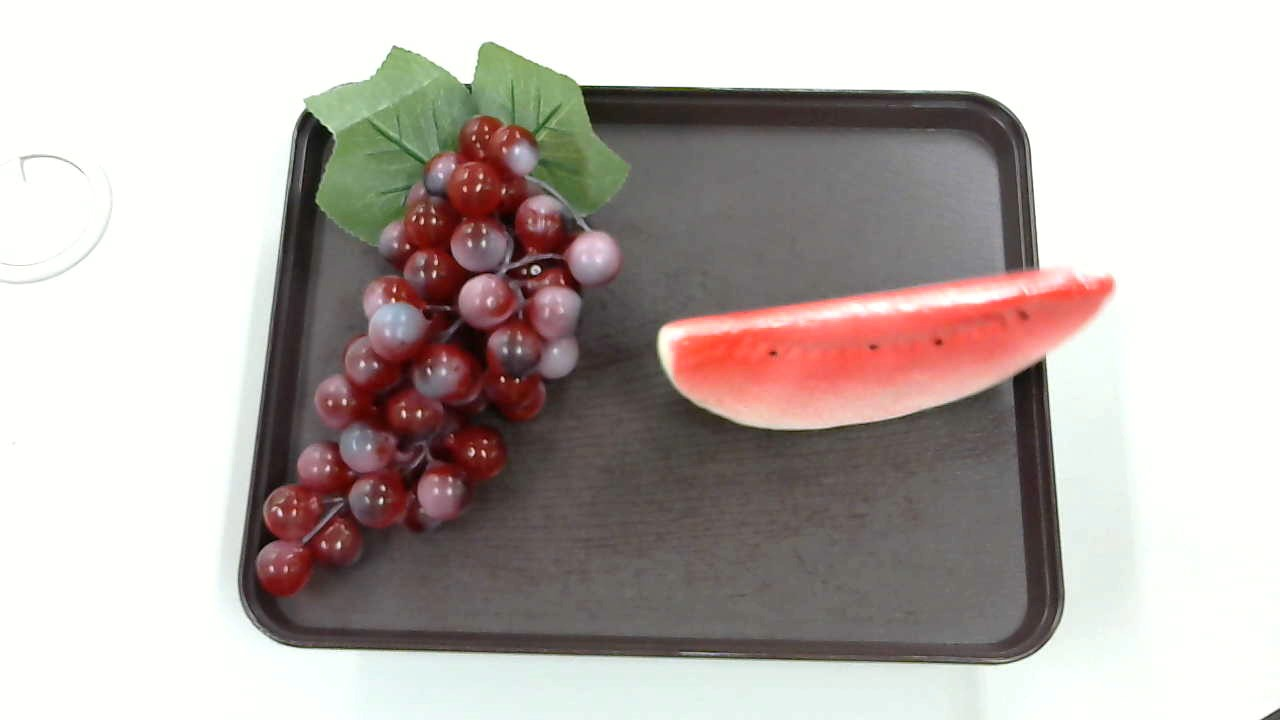grape: (252, 35, 625, 612)
water melon: (646, 261, 1120, 439)
